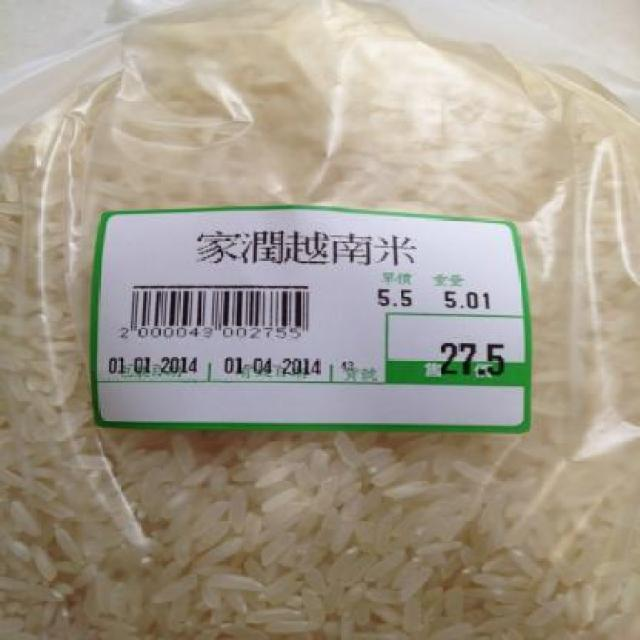plastic bag: (1, 1, 637, 637)
